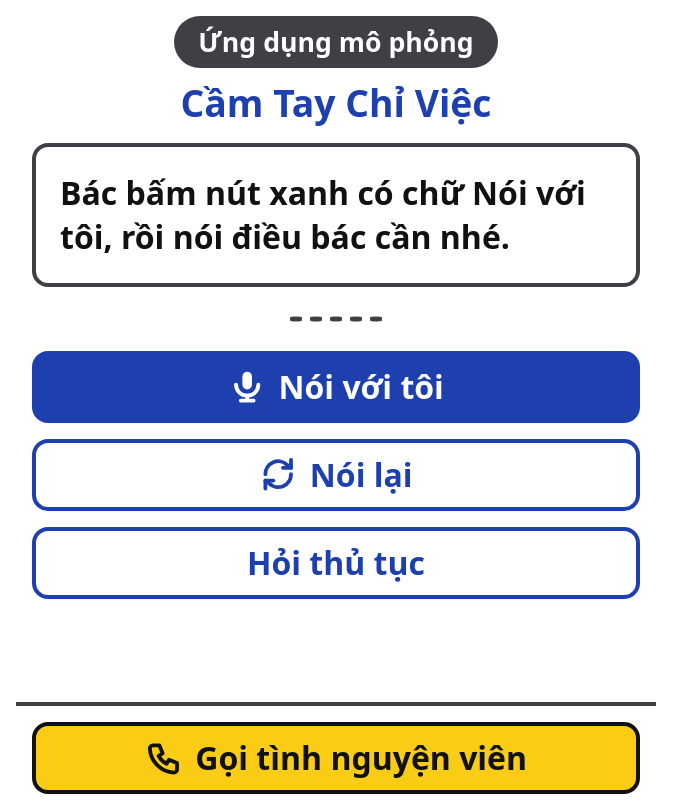
Scenario: màn hình chính › phụ đề đổi khi bấm Nói với tôi, Nói lại và Gọi tình nguyện viên
Expected: the message with test id "subtitle" reads "Bác bấm nút xanh có chữ Nói với tôi, rồi nói điều bác cần nhé.", [60,171,586,258]
What coordinates should you click on to do the following:
click the button "Nói với tôi"
I would click on:
 (336, 387)
Its box is [32,351,640,423].
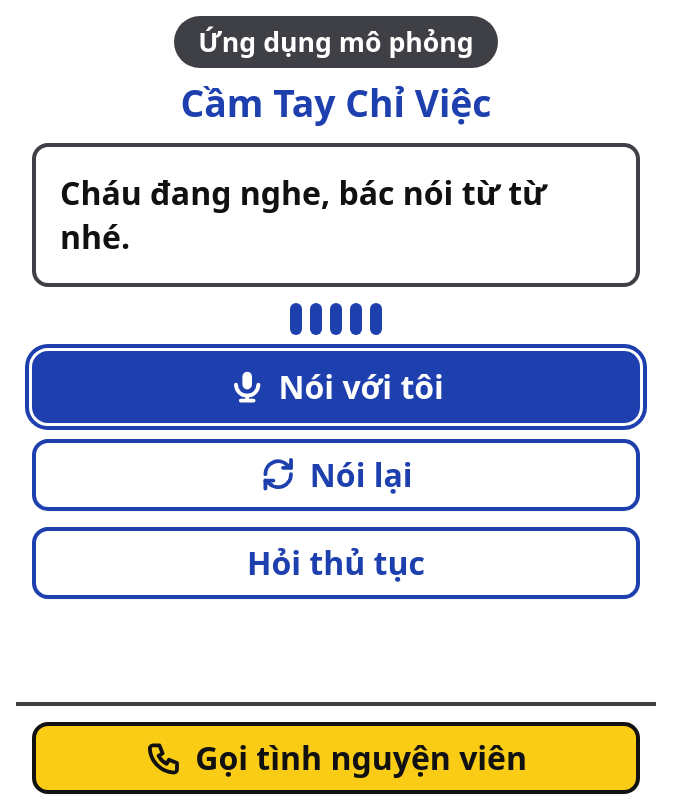
Expected: the message with test id "subtitle" reads "Cháu đang nghe, bác nói từ từ nhé.", [60,171,546,258]
What coordinates should you click on to do the following:
click the button "Nói với tôi"
I would click on:
 (336, 387)
Its box is [32,351,640,423].
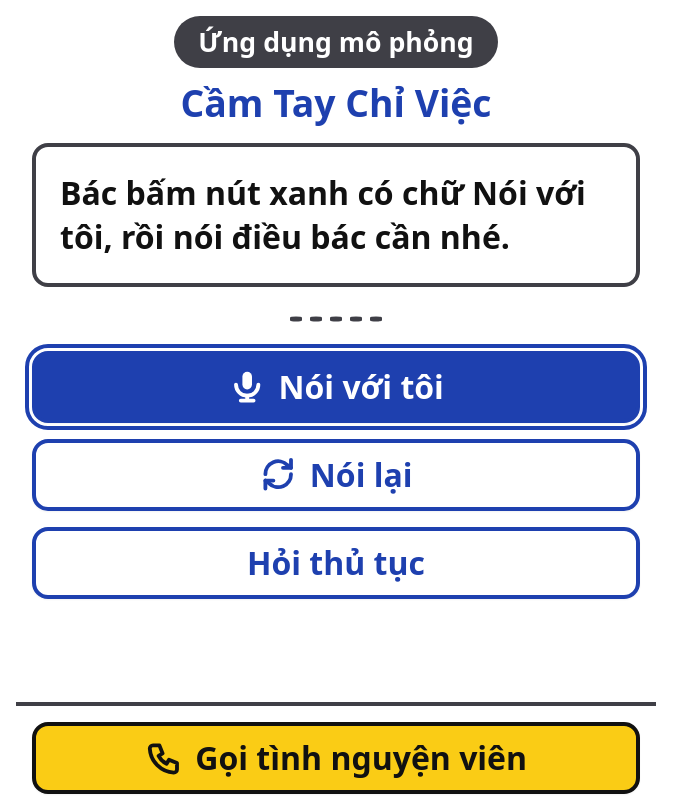
Expected: the message with test id "subtitle" reads "Bác bấm nút xanh có chữ Nói với tôi, rồi nói điều bác cần nhé.", [60,171,586,258]
What coordinates should you click on to do the following:
click the button "Nói lại"
I would click on:
 (336, 475)
Its box is [32,439,640,511].
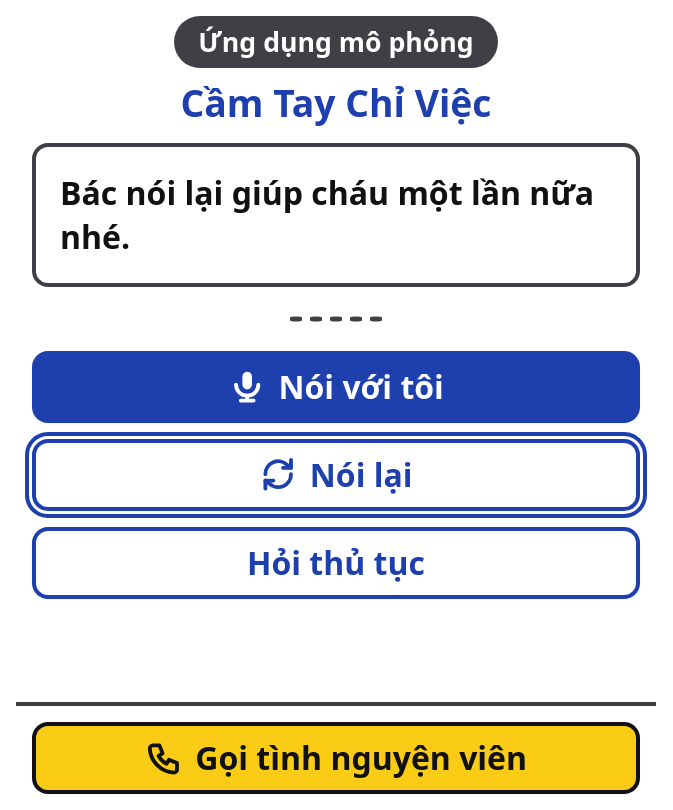
Expected: the message with test id "subtitle" reads "Bác nói lại giúp cháu một lần nữa nhé.", [60,171,594,258]
What coordinates should you click on to do the following:
click the button "Gọi tình nguyện viên"
I would click on:
 (336, 758)
Its box is [32,722,640,794].
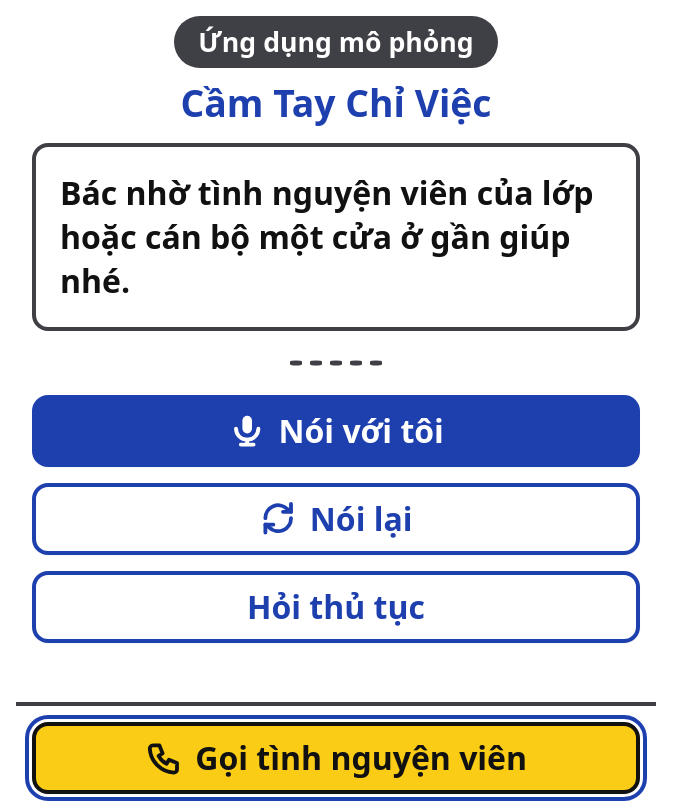
Expected: the message with test id "subtitle" reads "Bác nhờ tình nguyện viên của lớp hoặc cán bộ một cửa ở gần giúp nhé.", [60,171,594,302]
